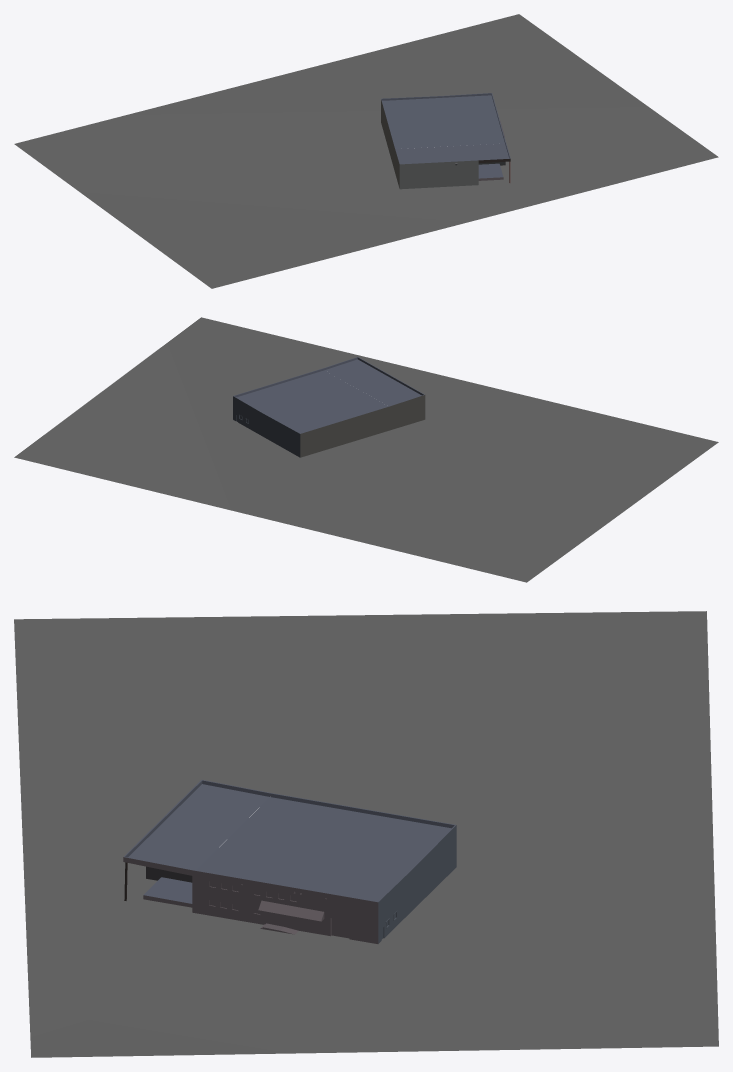
Rendered from 100-west-main.glb.
3 renders of one model, top to bottom at view 1: azimuth 30°, elevation 25°; view 2: azimuth 150°, elevation 25°; view 3: azimuth 270°, elevation 25°, orthographic. The views are drawn at different scales.
Visible parts, largest first — view 1: LOD0; view 2: LOD0; view 3: LOD0.
Boxes of the visible parts, x1=… form: LOD0: x1=14, y1=14, x2=718, y2=288; LOD0: x1=14, y1=317, x2=718, y2=582; LOD0: x1=14, y1=611, x2=718, y2=1057.
Size of what is drawn, in the model's own units: 163 by 8.34 by 108.
1 material, 1 textured.
